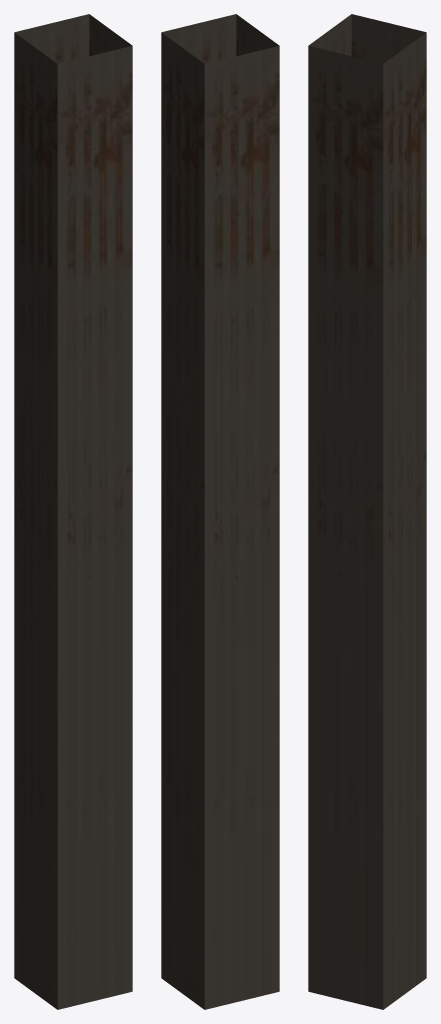
Rendered from Metal_Column_Small_Center.glb.
The picture shows the model from 3 angles, left to right: view 1: azimuth 30°, elevation 25°; view 2: azimuth 210°, elevation 25°; view 3: azimuth 330°, elevation 25°; orthographic projection.
Visible parts, largest first — view 1: Metal_Column_Small_Center; view 2: Metal_Column_Small_Center; view 3: Metal_Column_Small_Center.
Boxes of the visible parts, bbox=[...] form: Metal_Column_Small_Center: bbox=[14, 14, 132, 1009]; Metal_Column_Small_Center: bbox=[161, 14, 279, 1009]; Metal_Column_Small_Center: bbox=[308, 14, 426, 1009].
Bounding box in the file's own units: 0.2489 × 3 × 0.249.
1 material, 1 textured.
